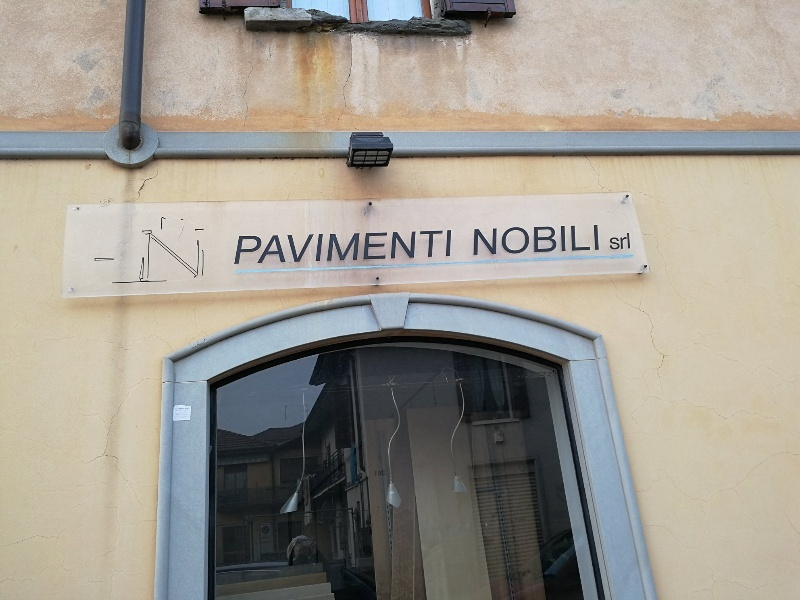text: (241, 230, 256, 265), (257, 230, 272, 265), (273, 230, 288, 265), (289, 230, 304, 265), (305, 230, 320, 265), (321, 230, 336, 265), (337, 230, 352, 265), (353, 230, 368, 265), (369, 230, 384, 265), (385, 230, 400, 265), (401, 230, 416, 265), (417, 230, 432, 265), (433, 230, 448, 265), (481, 226, 496, 256), (497, 226, 512, 256), (513, 226, 528, 256), (529, 226, 544, 256), (545, 226, 560, 256), (561, 226, 576, 256), (577, 226, 592, 256), (609, 232, 624, 251), (474, 226, 480, 256), (593, 226, 599, 256), (449, 230, 452, 265), (625, 232, 630, 251), (239, 230, 240, 265)
